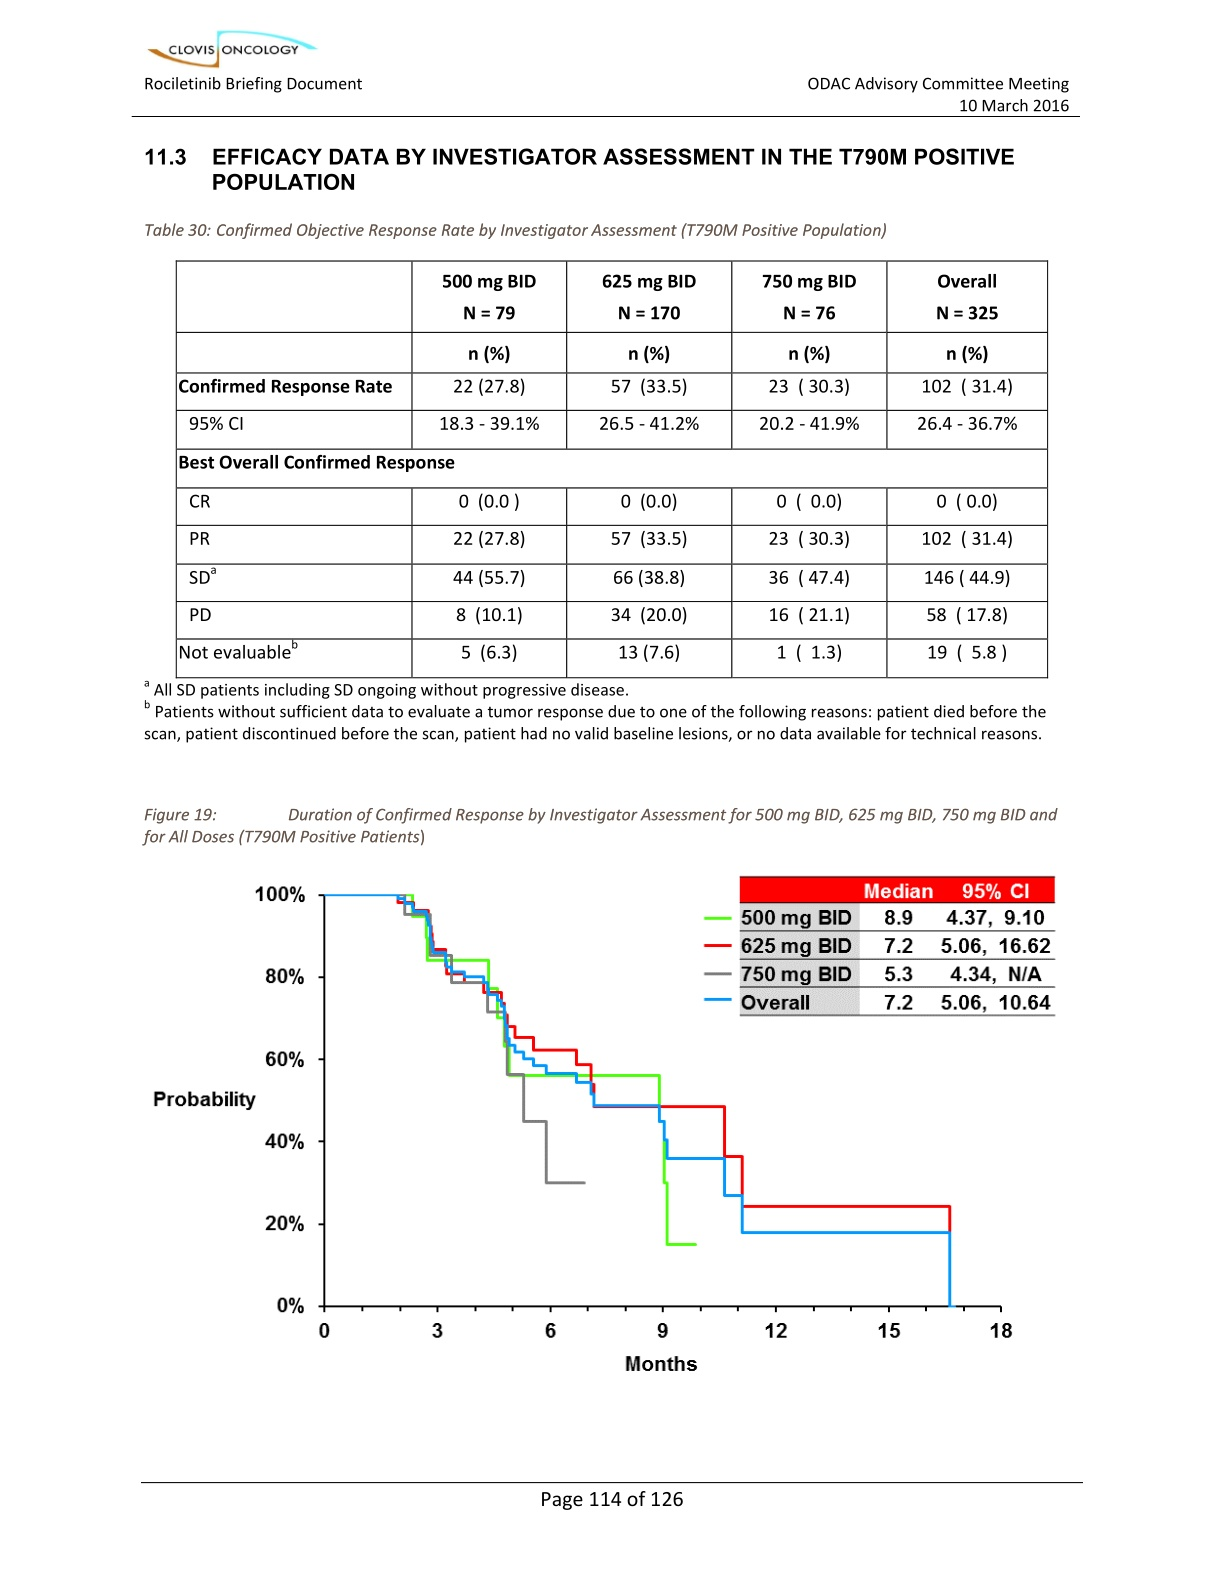merged_cells: (175, 258, 1049, 679)
partial_lined: (738, 876, 1056, 1017)
